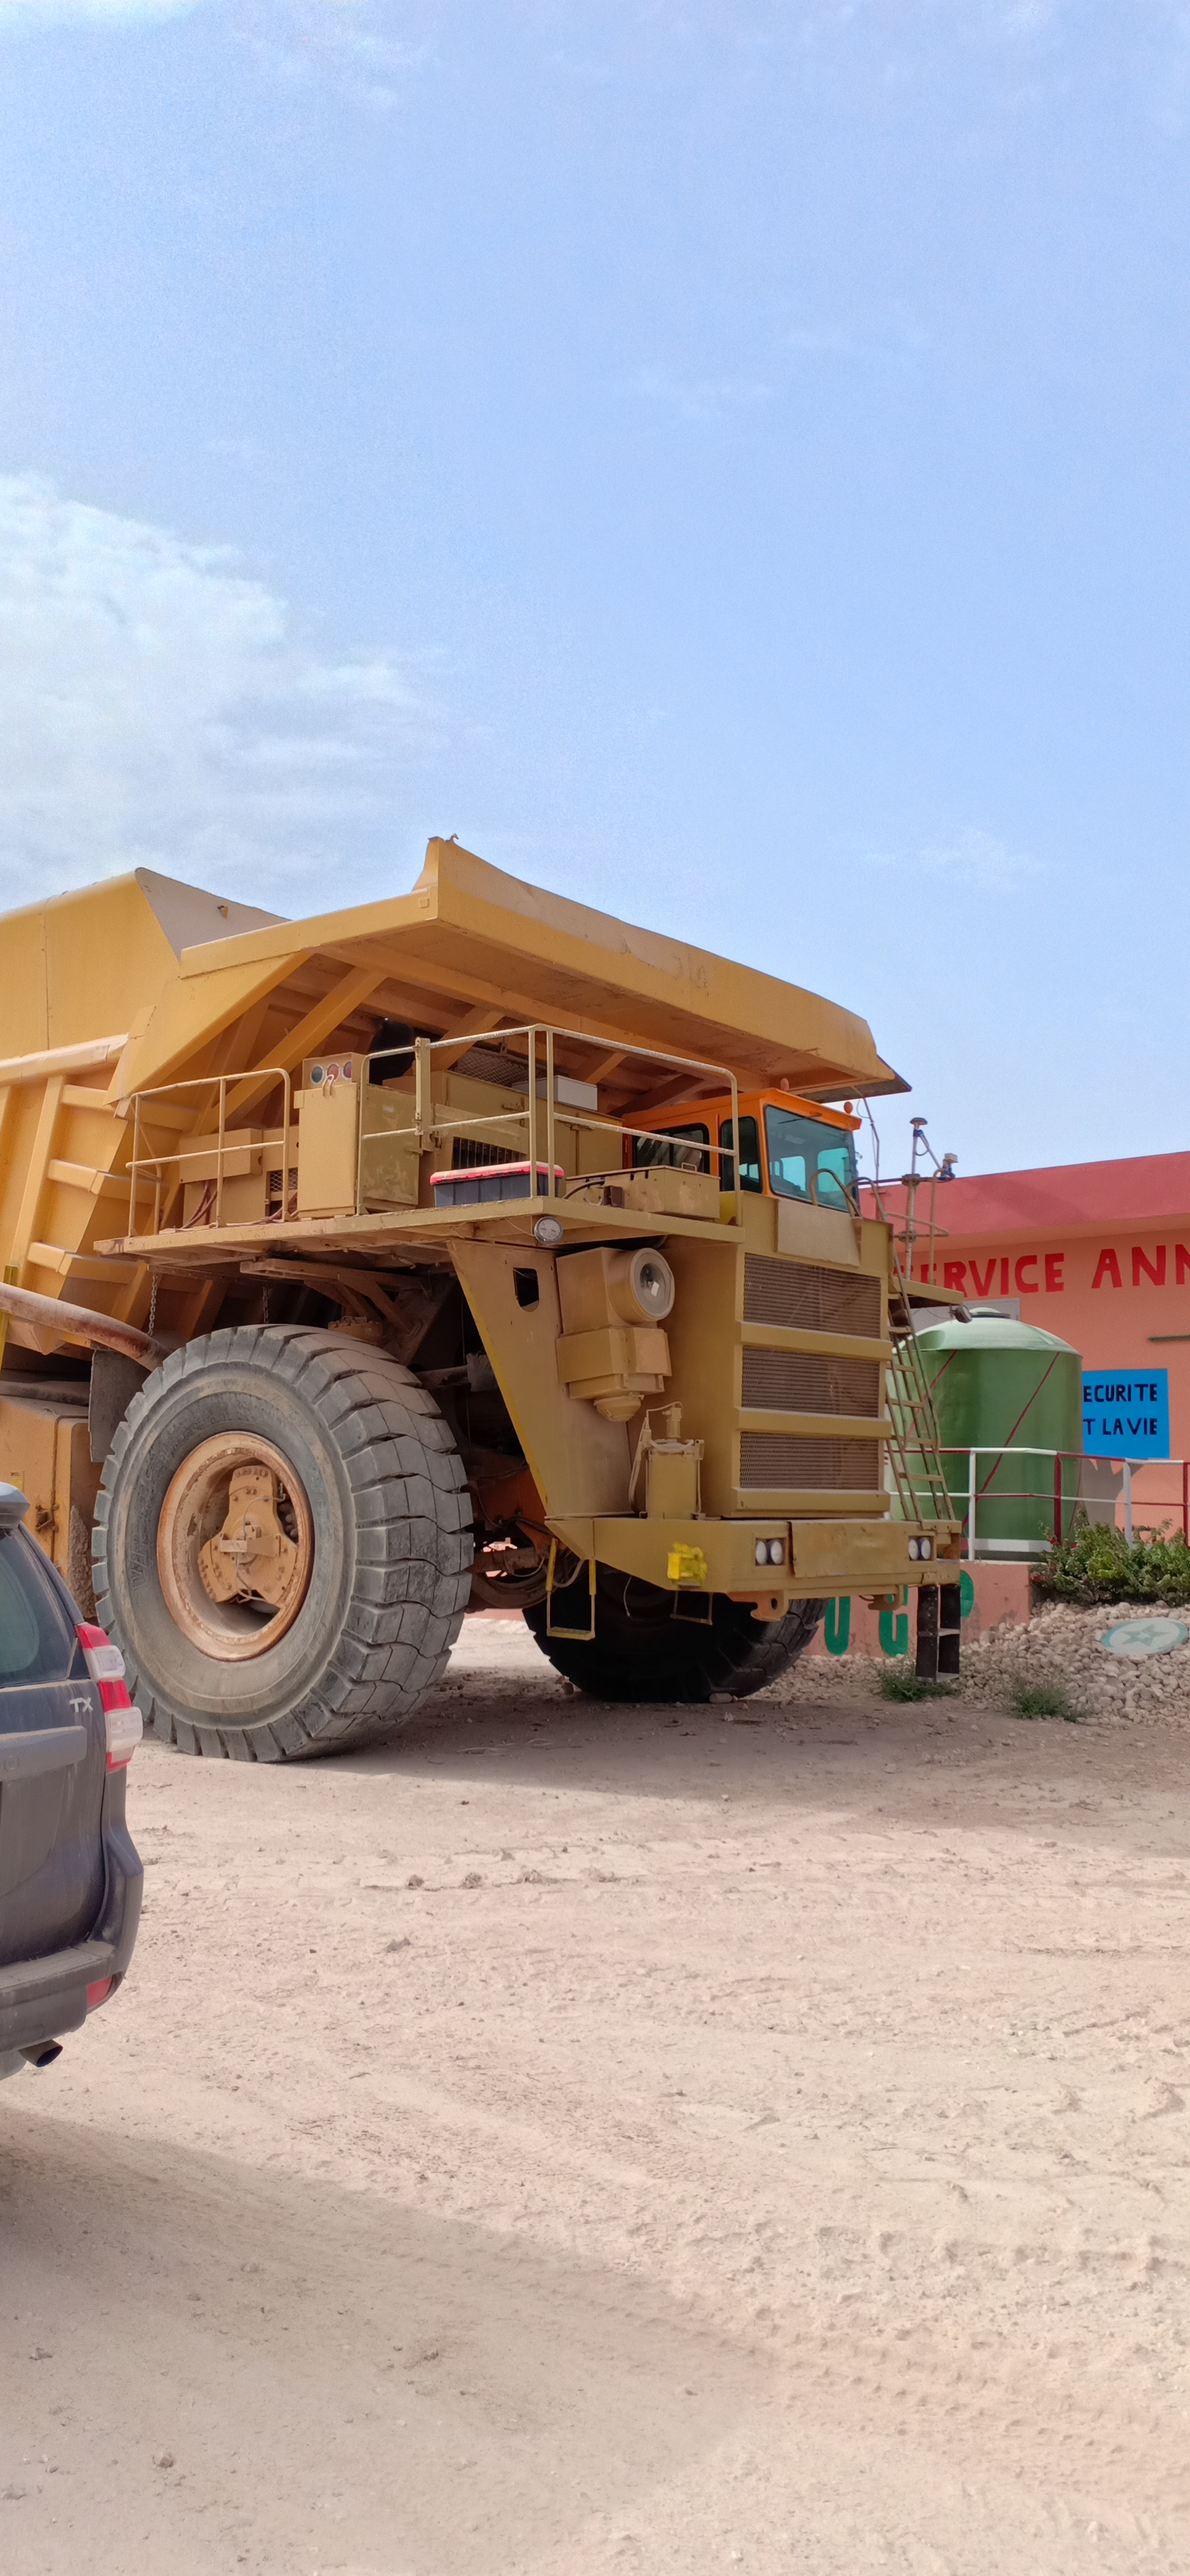camion: (0, 849, 932, 1814)
